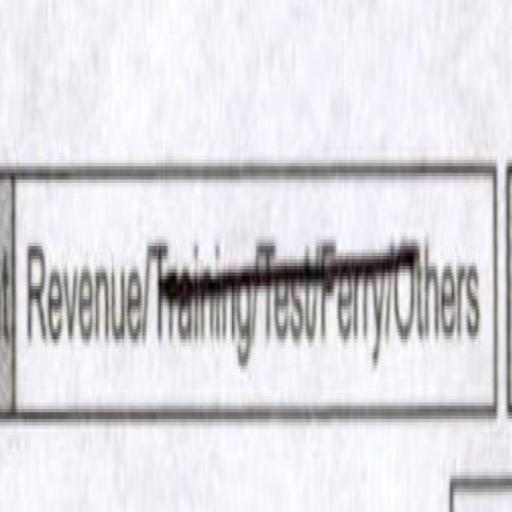check: (18, 148, 150, 434)
